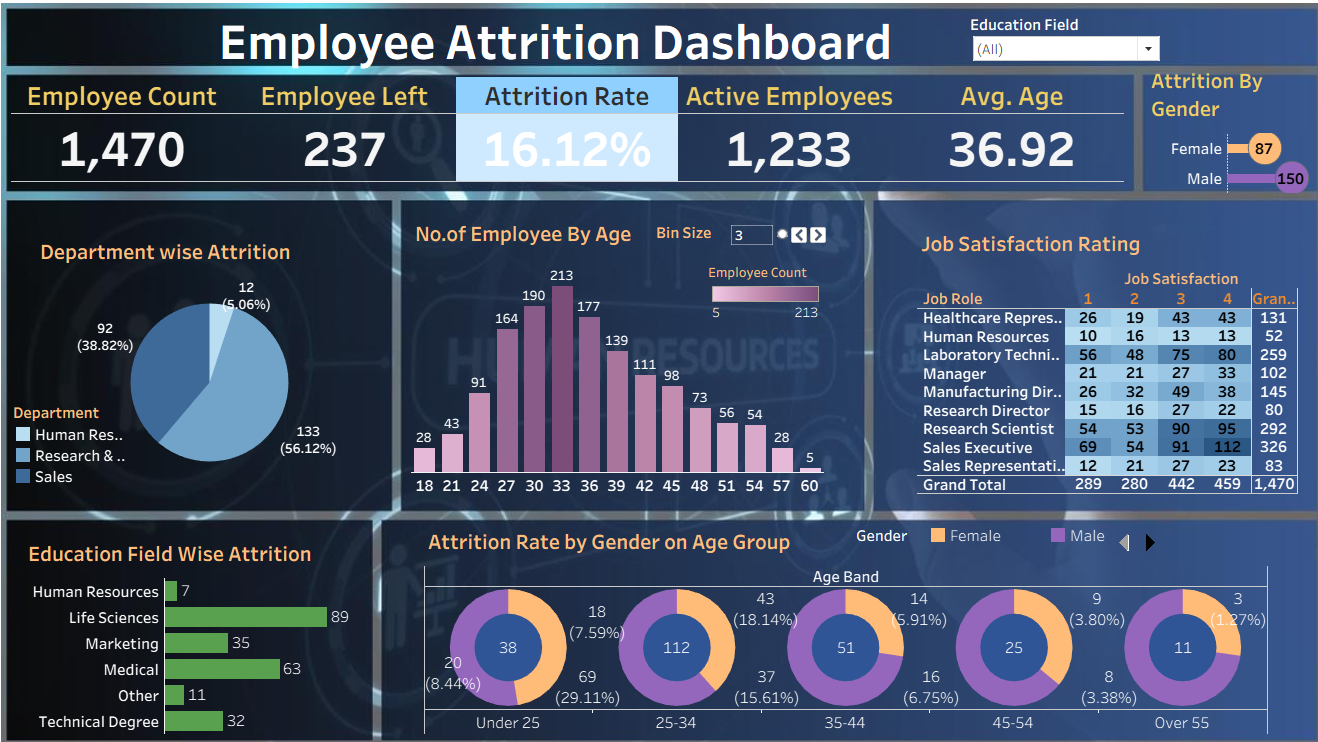

The page's visual inventory and layout, read from the dashboard file:
{"tool":"tableau","page":{"name":"Employee Attrition Dashboard","canvas":[1366,768],"ordinal":0},"visuals":[{"type":"image","param":"Image/desktop image.jpeg","box":[8,8,1350,752]},{"type":"text","box":[19,19,1095.5,60.5]},{"type":"filter","title":"Department wise Attrition","param":"[federated.15p63bp1mnc60m15ozgma0aq48no].[none:EducationField:nk]","box":[981.3,23.5,192.8,47.8]},{"type":"worksheet","title":"Attrition By Gender","mark":"Automatic","rows":["Gender"],"cols":["Calculation_2522576921919489","Calculation_2522576921919489"],"box":[1158,71,165,131]},{"type":"worksheet","title":"KPI","mark":"Automatic","box":[22,86,1113,105]},{"type":"worksheet","title":"No.of Employee By Age","mark":"Automatic","rows":["Calculation_2583875110801408"],"cols":["Age (bin)"],"box":[422,224,413,282]},{"type":"parameter","param":"[Parameters].[Parameter 2583875143196683]","box":[667,231,173,42]},{"type":"worksheet","title":"Job Satisfaction Rating","mark":"Square","rows":["JobRole"],"cols":["JobSatisfaction"],"box":[928,234,381,269]},{"type":"worksheet","title":"Department wise Attrition","mark":"Pie","box":[47,242,347,256]},{"type":"legend","title":"No.of Employee By Age","param":"[federated.15p63bp1mnc60m15ozgma0aq48no].[usr:Calculation_2583875110801408:qk]","box":[719,272,115,66]},{"type":"legend","title":"Department wise Attrition","param":"[federated.15p63bp1mnc60m15ozgma0aq48no].[none:Department:nk]","box":[24,411,119,85]},{"type":"worksheet","title":"Attrition Rate by Gender on Age Group","mark":"Pie","rows":["Calculation_2583875159904274","Calculation_2583875159904274"],"cols":["Calculation_2583875159404560"],"box":[435,532,844,212]},{"type":"legend","title":"Attrition Rate by Gender on Age Group","param":"[federated.15p63bp1mnc60m15ozgma0aq48no].[none:Gender:nk]","box":[867.1,534.3,309.4,35.2]},{"type":"worksheet","title":"Education Field Wise Attrition","mark":"Automatic","rows":["EducationField"],"cols":["Calculation_2522576921919489"],"box":[35,544,338,199]}]}

Visuals, with their boxes in screenshot pixels (x1, y1, x2, y2), scaled from the page's 1366x768 canvas onto the 1318x742 screenshot:
image: BBox(8, 8, 1310, 734)
text: BBox(18, 18, 1075, 77)
"Department wise Attrition" filter: BBox(947, 23, 1133, 69)
"Attrition By Gender" worksheet: BBox(1117, 69, 1277, 195)
"KPI" worksheet: BBox(21, 83, 1095, 185)
"No.of Employee By Age" worksheet: BBox(407, 216, 806, 489)
parameter: BBox(644, 223, 810, 264)
"Job Satisfaction Rating" worksheet (Square marks): BBox(895, 226, 1263, 486)
"Department wise Attrition" worksheet (Pie marks): BBox(45, 234, 380, 481)
"No.of Employee By Age" legend: BBox(694, 263, 805, 327)
"Department wise Attrition" legend: BBox(23, 397, 138, 479)
"Attrition Rate by Gender on Age Group" worksheet (Pie marks): BBox(420, 514, 1234, 719)
"Attrition Rate by Gender on Age Group" legend: BBox(837, 516, 1135, 550)
"Education Field Wise Attrition" worksheet: BBox(34, 526, 360, 718)
